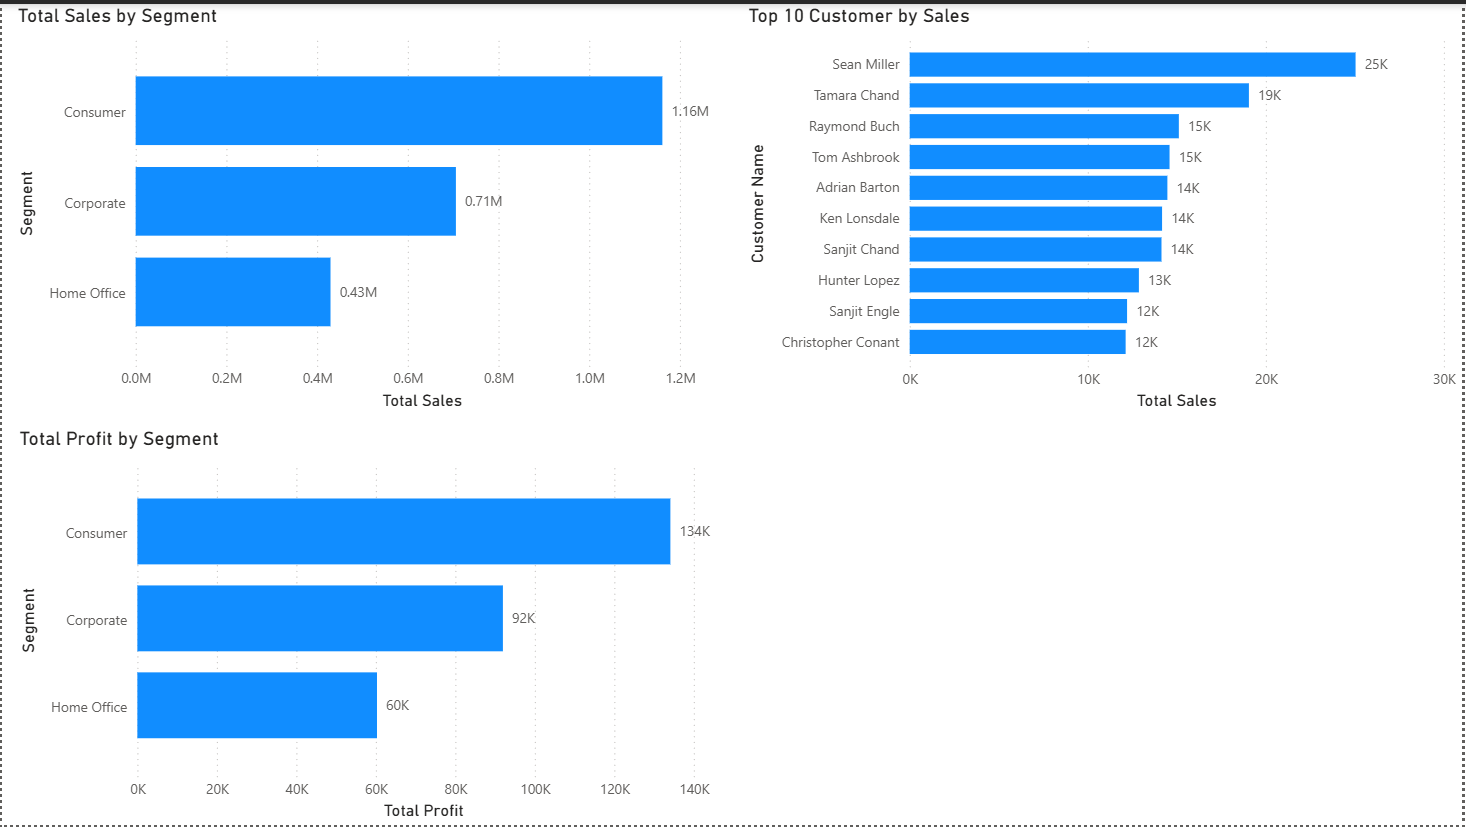

This screenshot's page, from the dashboard's own definition file:
{"tool":"powerbi","page":{"name":"Customer Analysis","canvas":[1280,720],"ordinal":2},"visuals":[{"type":"barChart","fields":{"Y":["Sum(Sample - Superstore.Sales)"],"Category":["Sample - Superstore.Segment"]},"box":[9.6,0,630.4,360.6],"z":0},{"type":"barChart","fields":{"Y":["Sum(Sample - Superstore.Profit)"],"Category":["Sample - Superstore.Segment"]},"box":[10,371,630,349],"z":1},{"type":"barChart","title":"Top 10 Customer by Sales","fields":{"Y":["Sum(Sample - Superstore.Sales)"],"Category":["Sample - Superstore.Customer Name"]},"box":[650,0,630,361],"z":2}]}

Visuals, with their boxes in screenshot pixels (x1, y1, x2, y2), scaled from the page's 1280x720 canvas onto the 1466x827 screenshot:
barChart - Sum(Sample - Superstore.Sales) x Sample - Superstore.Segment: (11, 0, 733, 414)
barChart - Sum(Sample - Superstore.Profit) x Sample - Superstore.Segment: (11, 426, 733, 826)
"Top 10 Customer by Sales" barChart: (744, 0, 1465, 415)
